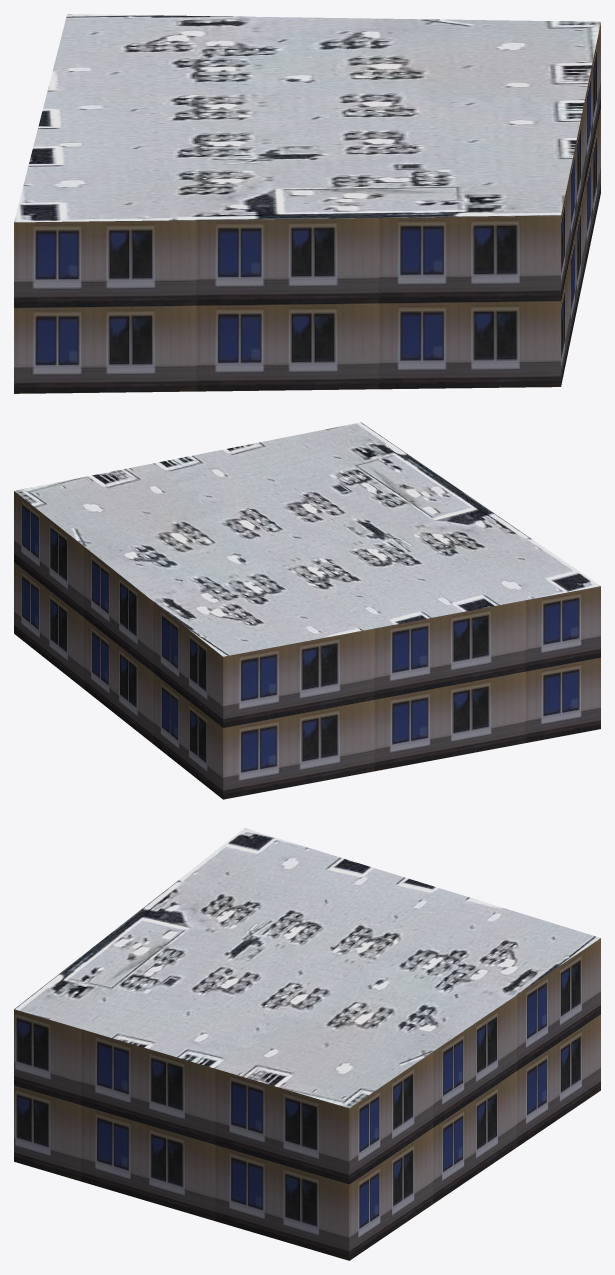
File: ResTex__4789.fbx
3 views of the same model, one above another, from view 1: azimuth 30°, elevation 25°; view 2: azimuth 150°, elevation 25°; view 3: azimuth 270°, elevation 25° (orthographic). The views are drawn at different scales.
Parts seen in each view (by area): view 1: CityEngineMaterial_8_m, CityEngineMaterial_5_m; view 2: CityEngineMaterial_5_m, CityEngineMaterial_8_m; view 3: CityEngineMaterial_5_m, CityEngineMaterial_8_m.
Part boxes in pixels (x1=…): CityEngineMaterial_8_m: x1=14, y1=14, x2=600, y2=222; CityEngineMaterial_5_m: x1=14, y1=23, x2=600, y2=393; CityEngineMaterial_5_m: x1=14, y1=491, x2=600, y2=799; CityEngineMaterial_8_m: x1=14, y1=422, x2=600, y2=656; CityEngineMaterial_5_m: x1=14, y1=938, x2=600, y2=1260; CityEngineMaterial_8_m: x1=14, y1=828, x2=600, y2=1108.
Bounding box in the file's own units: 23.65 × 6 × 20.93.
Materials: 2 (2 with a texture image).
